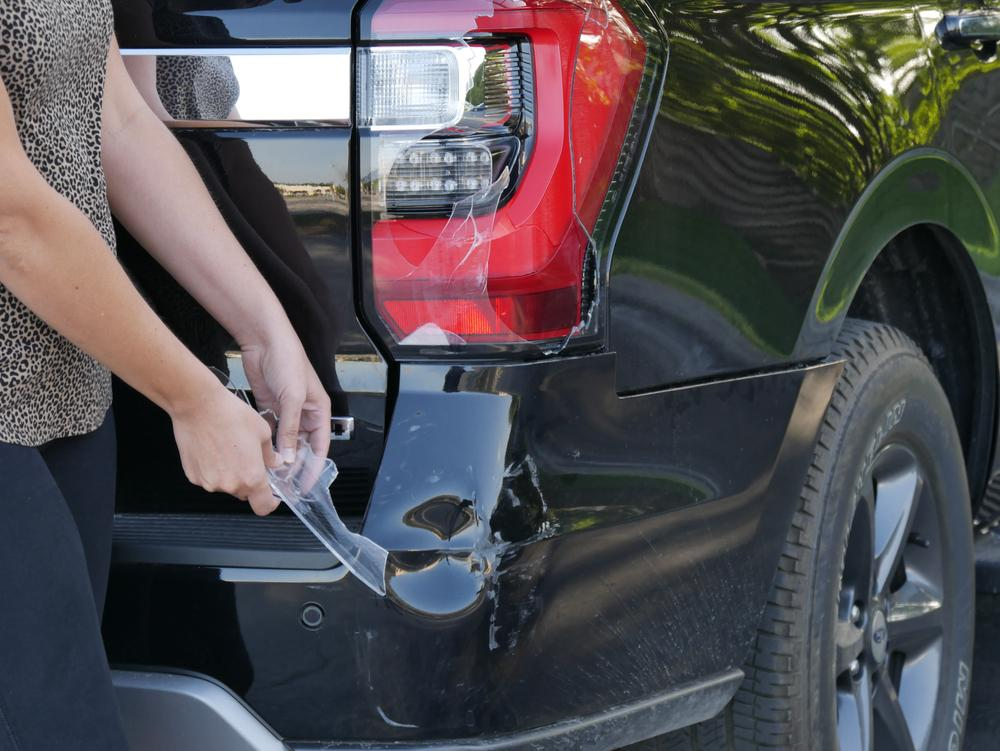dent: (385, 494, 510, 615)
lamp broken: (355, 0, 662, 361)
scratch: (488, 450, 556, 663)
